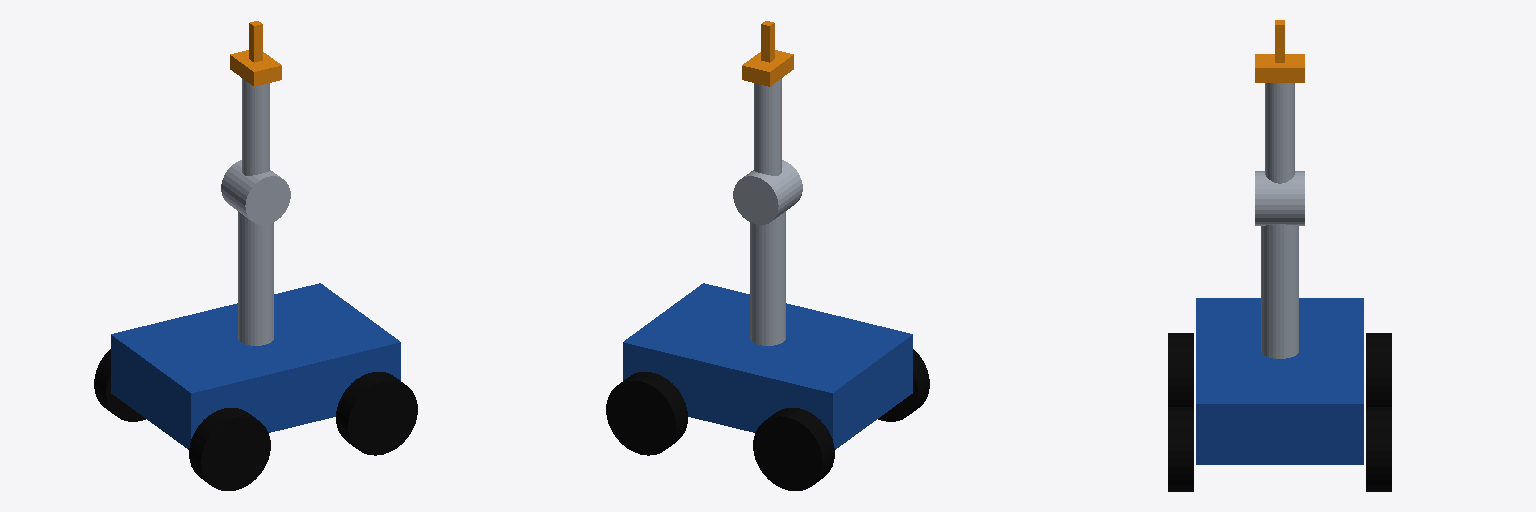
URDF robot description (gripper_bot):
<?xml version='1.0' encoding='utf-8'?>
<robot name="gripper_bot">
  <material name="body">
    <color rgba="0.15 0.35 0.65 1" />
  </material>
  <material name="rubber">
    <color rgba="0.08 0.08 0.08 1" />
  </material>
  <material name="arm">
    <color rgba="0.65 0.68 0.72 1" />
  </material>
  <material name="finger">
    <color rgba="0.9 0.55 0.1 1" />
  </material>
  <link name="base_footprint" />
  <link name="base_link">
    <visual>
      <origin xyz="0 0 0" rpy="0 0 0" />
      <geometry>
        <box size="0.6 0.4 0.16" />
      </geometry>
      <material name="body" />
    </visual>
    <collision>
      <origin xyz="0 0 0" rpy="0 0 0" />
      <geometry>
        <box size="0.6 0.4 0.16" />
      </geometry>
    </collision>
    <inertial>
      <origin xyz="0 0 0" />
      <mass value="8" />
      <inertia ixx="0.12373333333333336" iyy="0.25706666666666667" izz="0.3466666666666667" ixy="0" ixz="0" iyz="0" />
    </inertial>
  </link>
  <joint name="base_height_joint" type="fixed">
    <parent link="base_footprint" />
    <child link="base_link" />
    <origin xyz="0 0 0.18" />
  </joint>
  <link name="front_left_wheel">
    <visual>
      <origin xyz="0 0 0" rpy="1.57079632679 0 0" />
      <geometry>
        <cylinder radius="0.1" length="0.06" />
      </geometry>
      <material name="rubber" />
    </visual>
    <collision>
      <origin xyz="0 0 0" rpy="1.57079632679 0 0" />
      <geometry>
        <cylinder radius="0.1" length="0.06" />
      </geometry>
    </collision>
    <inertial>
      <origin xyz="0 0 0" />
      <mass value="0.5" />
      <inertia ixx="0.0014000000000000002" iyy="0.0025000000000000005" izz="0.0014000000000000002" ixy="0" ixz="0" iyz="0" />
    </inertial>
  </link>
  <joint name="front_left_wheel_joint" type="continuous">
    <parent link="base_link" />
    <child link="front_left_wheel" />
    <origin xyz="0.21 0.235 -0.08" />
    <axis xyz="0 1 0" />
    <limit effort="20" velocity="2" />
  </joint>
  <link name="front_right_wheel">
    <visual>
      <origin xyz="0 0 0" rpy="1.57079632679 0 0" />
      <geometry>
        <cylinder radius="0.1" length="0.06" />
      </geometry>
      <material name="rubber" />
    </visual>
    <collision>
      <origin xyz="0 0 0" rpy="1.57079632679 0 0" />
      <geometry>
        <cylinder radius="0.1" length="0.06" />
      </geometry>
    </collision>
    <inertial>
      <origin xyz="0 0 0" />
      <mass value="0.5" />
      <inertia ixx="0.0014000000000000002" iyy="0.0025000000000000005" izz="0.0014000000000000002" ixy="0" ixz="0" iyz="0" />
    </inertial>
  </link>
  <joint name="front_right_wheel_joint" type="continuous">
    <parent link="base_link" />
    <child link="front_right_wheel" />
    <origin xyz="0.21 -0.235 -0.08" />
    <axis xyz="0 1 0" />
    <limit effort="20" velocity="2" />
  </joint>
  <link name="rear_left_wheel">
    <visual>
      <origin xyz="0 0 0" rpy="1.57079632679 0 0" />
      <geometry>
        <cylinder radius="0.1" length="0.06" />
      </geometry>
      <material name="rubber" />
    </visual>
    <collision>
      <origin xyz="0 0 0" rpy="1.57079632679 0 0" />
      <geometry>
        <cylinder radius="0.1" length="0.06" />
      </geometry>
    </collision>
    <inertial>
      <origin xyz="0 0 0" />
      <mass value="0.5" />
      <inertia ixx="0.0014000000000000002" iyy="0.0025000000000000005" izz="0.0014000000000000002" ixy="0" ixz="0" iyz="0" />
    </inertial>
  </link>
  <joint name="rear_left_wheel_joint" type="continuous">
    <parent link="base_link" />
    <child link="rear_left_wheel" />
    <origin xyz="-0.21 0.235 -0.08" />
    <axis xyz="0 1 0" />
    <limit effort="20" velocity="2" />
  </joint>
  <link name="rear_right_wheel">
    <visual>
      <origin xyz="0 0 0" rpy="1.57079632679 0 0" />
      <geometry>
        <cylinder radius="0.1" length="0.06" />
      </geometry>
      <material name="rubber" />
    </visual>
    <collision>
      <origin xyz="0 0 0" rpy="1.57079632679 0 0" />
      <geometry>
        <cylinder radius="0.1" length="0.06" />
      </geometry>
    </collision>
    <inertial>
      <origin xyz="0 0 0" />
      <mass value="0.5" />
      <inertia ixx="0.0014000000000000002" iyy="0.0025000000000000005" izz="0.0014000000000000002" ixy="0" ixz="0" iyz="0" />
    </inertial>
  </link>
  <joint name="rear_right_wheel_joint" type="continuous">
    <parent link="base_link" />
    <child link="rear_right_wheel" />
    <origin xyz="-0.21 -0.235 -0.08" />
    <axis xyz="0 1 0" />
    <limit effort="20" velocity="2" />
  </joint>
  <link name="arm_base_link">
    <visual>
      <origin xyz="0 0 0.2" rpy="0 0 0" />
      <geometry>
        <cylinder radius="0.045" length="0.4" />
      </geometry>
      <material name="arm" />
    </visual>
    <collision>
      <origin xyz="0 0 0.2" rpy="0 0 0" />
      <geometry>
        <cylinder radius="0.045" length="0.4" />
      </geometry>
    </collision>
    <inertial>
      <origin xyz="0 0 0.2" />
      <mass value="1.5" />
      <inertia ixx="0.020759375000000004" iyy="0.020759375000000004" izz="0.0015187500000000001" ixy="0" ixz="0" iyz="0" />
    </inertial>
  </link>
  <joint name="arm_base_joint" type="revolute">
    <parent link="base_link" />
    <child link="arm_base_link" />
    <origin xyz="0 0 0.08" />
    <axis xyz="0 0 1" />
    <limit effort="20" velocity="2" lower="-1" upper="1" />
  </joint>
  <link name="arm_elbow_link">
    <visual>
      <origin xyz="0 0 0" rpy="1.57079632679 0 0" />
      <geometry>
        <cylinder radius="0.065" length="0.12" />
      </geometry>
      <material name="arm" />
    </visual>
    <collision>
      <origin xyz="0 0 0" rpy="1.57079632679 0 0" />
      <geometry>
        <cylinder radius="0.065" length="0.12" />
      </geometry>
    </collision>
    <inertial>
      <origin xyz="0 0 0" />
      <mass value="0.3" />
      <inertia ixx="0.000676875" iyy="0.00063375" izz="0.000676875" ixy="0" ixz="0" iyz="0" />
    </inertial>
  </link>
  <joint name="arm_elbow_joint" type="revolute">
    <parent link="arm_base_link" />
    <child link="arm_elbow_link" />
    <origin xyz="0 0 0.4" />
    <axis xyz="0 1 0" />
    <limit effort="20" velocity="2" lower="-1" upper="1" />
  </joint>
  <link name="arm_forearm_link">
    <visual>
      <origin xyz="0 0 0.16" rpy="0 0 0" />
      <geometry>
        <cylinder radius="0.035" length="0.32" />
      </geometry>
      <material name="arm" />
    </visual>
    <collision>
      <origin xyz="0 0 0.16" rpy="0 0 0" />
      <geometry>
        <cylinder radius="0.035" length="0.32" />
      </geometry>
    </collision>
    <inertial>
      <origin xyz="0 0 0.16" />
      <mass value="0.8" />
      <inertia ixx="0.007071666666666667" iyy="0.007071666666666667" izz="0.0004900000000000001" ixy="0" ixz="0" iyz="0" />
    </inertial>
  </link>
  <joint name="forearm_mount_joint" type="fixed">
    <parent link="arm_elbow_link" />
    <child link="arm_forearm_link" />
    <origin xyz="0 0 0" />
  </joint>
  <link name="gripper_palm_link">
    <visual>
      <origin xyz="0 0 0" rpy="0 0 0" />
      <geometry>
        <box size="0.08 0.12 0.04" />
      </geometry>
      <material name="finger" />
    </visual>
    <collision>
      <origin xyz="0 0 0" rpy="0 0 0" />
      <geometry>
        <box size="0.08 0.12 0.04" />
      </geometry>
    </collision>
    <inertial>
      <origin xyz="0 0 0" />
      <mass value="0.2" />
      <inertia ixx="0.0002666666666666667" iyy="0.00013333333333333334" izz="0.0003466666666666666" ixy="0" ixz="0" iyz="0" />
    </inertial>
  </link>
  <joint name="gripper_mount_joint" type="fixed">
    <parent link="arm_forearm_link" />
    <child link="gripper_palm_link" />
    <origin xyz="0 0 0.34" />
  </joint>
  <link name="left_finger_link">
    <visual>
      <origin xyz="0 0 0.05" rpy="0 0 0" />
      <geometry>
        <box size="0.025 0.012 0.10" />
      </geometry>
      <material name="finger" />
    </visual>
    <collision>
      <origin xyz="0 0 0.05" rpy="0 0 0" />
      <geometry>
        <box size="0.025 0.012 0.10" />
      </geometry>
    </collision>
    <inertial>
      <origin xyz="0 0 0.05" />
      <mass value="0.05" />
      <inertia ixx="4.226666666666667e-05" iyy="4.427083333333334e-05" izz="3.2041666666666676e-06" ixy="0" ixz="0" iyz="0" />
    </inertial>
  </link>
  <joint name="gripper_left_joint" type="prismatic">
    <parent link="gripper_palm_link" />
    <child link="left_finger_link" />
    <origin xyz="0 0.006 0.02" />
    <axis xyz="0 1 0" />
    <limit effort="20" velocity="2" lower="0" upper="0.04" />
  </joint>
  <link name="right_finger_link">
    <visual>
      <origin xyz="0 0 0.05" rpy="0 0 0" />
      <geometry>
        <box size="0.025 0.012 0.10" />
      </geometry>
      <material name="finger" />
    </visual>
    <collision>
      <origin xyz="0 0 0.05" rpy="0 0 0" />
      <geometry>
        <box size="0.025 0.012 0.10" />
      </geometry>
    </collision>
    <inertial>
      <origin xyz="0 0 0.05" />
      <mass value="0.05" />
      <inertia ixx="4.226666666666667e-05" iyy="4.427083333333334e-05" izz="3.2041666666666676e-06" ixy="0" ixz="0" iyz="0" />
    </inertial>
  </link>
  <joint name="gripper_right_joint" type="prismatic">
    <parent link="gripper_palm_link" />
    <child link="right_finger_link" />
    <origin xyz="0 -0.006 0.02" />
    <axis xyz="0 -1 0" />
    <limit effort="20" velocity="2" lower="0" upper="0.04" />
  </joint>
</robot>

--- Render facts (derived) ---
The picture shows the robot from 3 angles, left to right: view 1: azimuth 30°, elevation 25°; view 2: azimuth 150°, elevation 25°; view 3: azimuth 270°, elevation 25°; orthographic projection.
Robot: gripper_bot — 12 links, 11 joints (2 revolute, 4 continuous, 2 prismatic, 3 fixed); root link base_footprint; default pose: every joint at zero.
Visible links, largest first — view 1: base_link, front_right_wheel, rear_right_wheel, arm_base_link, arm_elbow_link, arm_forearm_link, gripper_palm_link, rear_left_wheel; view 2: base_link, front_left_wheel, rear_left_wheel, arm_base_link, arm_elbow_link, arm_forearm_link, gripper_palm_link, rear_right_wheel; view 3: base_link, arm_base_link, arm_forearm_link, arm_elbow_link, front_left_wheel, front_right_wheel, rear_left_wheel, rear_right_wheel, gripper_palm_link.
Link boxes in pixels (box(x1,y1,x2,y2)): base_link: box(111, 283, 400, 449); front_right_wheel: box(336, 372, 417, 455); rear_right_wheel: box(189, 408, 270, 490); arm_base_link: box(238, 211, 273, 345); arm_elbow_link: box(221, 160, 290, 224); arm_forearm_link: box(242, 78, 269, 175); gripper_palm_link: box(230, 50, 281, 86); rear_left_wheel: box(94, 349, 145, 421); base_link: box(623, 283, 912, 449); front_left_wheel: box(606, 372, 687, 455); rear_left_wheel: box(753, 408, 834, 490); arm_base_link: box(750, 211, 785, 345); arm_elbow_link: box(733, 160, 802, 224); arm_forearm_link: box(754, 78, 781, 175); gripper_palm_link: box(742, 50, 793, 86); rear_right_wheel: box(878, 349, 929, 421); base_link: box(1196, 298, 1363, 464); arm_base_link: box(1261, 224, 1298, 358); arm_forearm_link: box(1265, 83, 1294, 183); arm_elbow_link: box(1255, 171, 1304, 225); front_left_wheel: box(1366, 407, 1391, 491); front_right_wheel: box(1168, 407, 1193, 491); rear_left_wheel: box(1366, 333, 1391, 406); rear_right_wheel: box(1168, 333, 1193, 406); gripper_palm_link: box(1255, 54, 1304, 82).
Size in the robot's own frame: 0.62 by 0.53 by 1.12 metres.
Geometry: primitives only (box / cylinder / sphere), no mesh files.
